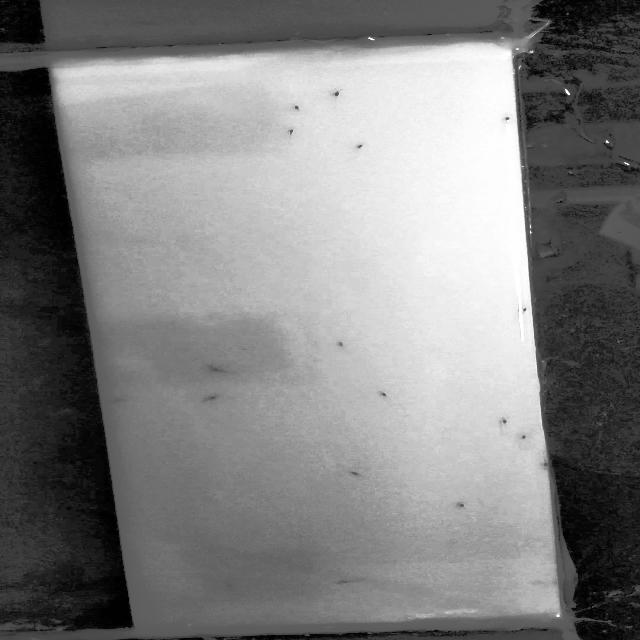shrimp: (187, 388, 237, 408), (192, 360, 242, 379), (273, 99, 321, 118), (213, 575, 255, 596), (334, 464, 369, 485), (344, 138, 376, 158), (368, 383, 397, 405), (316, 85, 352, 102), (327, 575, 371, 588), (444, 499, 477, 515), (277, 125, 306, 142), (516, 430, 536, 444), (490, 415, 509, 426)
